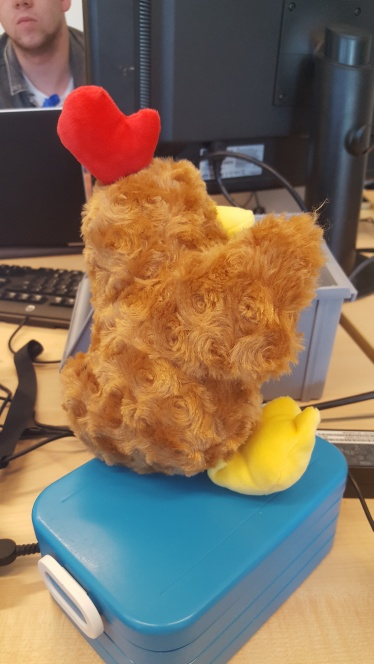chicken_left: (56, 84, 321, 495)
